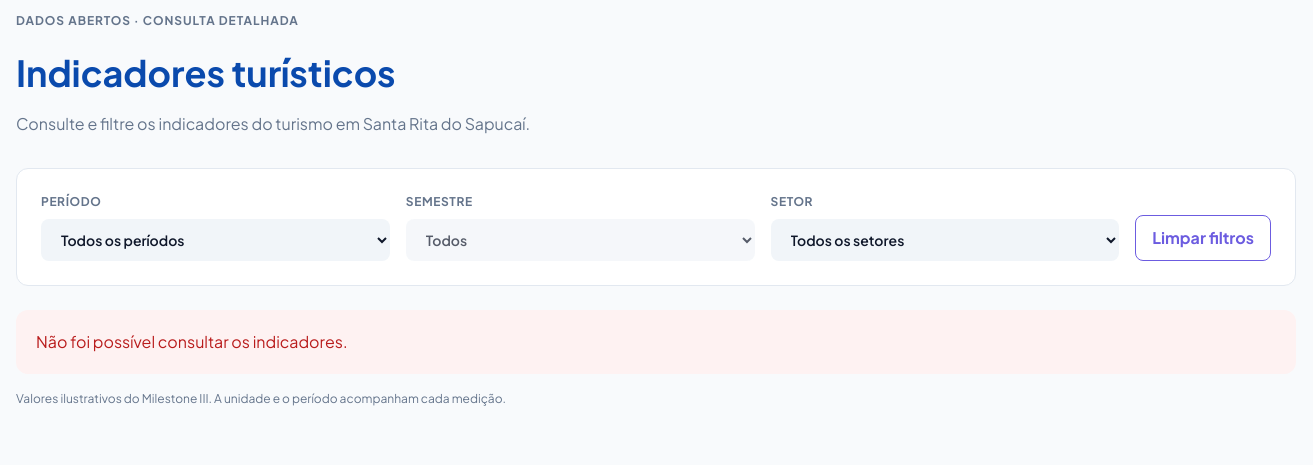
Scenario: consulta de indicadores › permite consultar outro setor depois de uma falha na consulta
Expected: the message reads "Não foi possível consultar os indicadores.", [36, 331, 348, 352]
Step 1. Select "Gastronomia" in the dropdown labelled "Setor" → (945, 240), box [771, 219, 1119, 261]
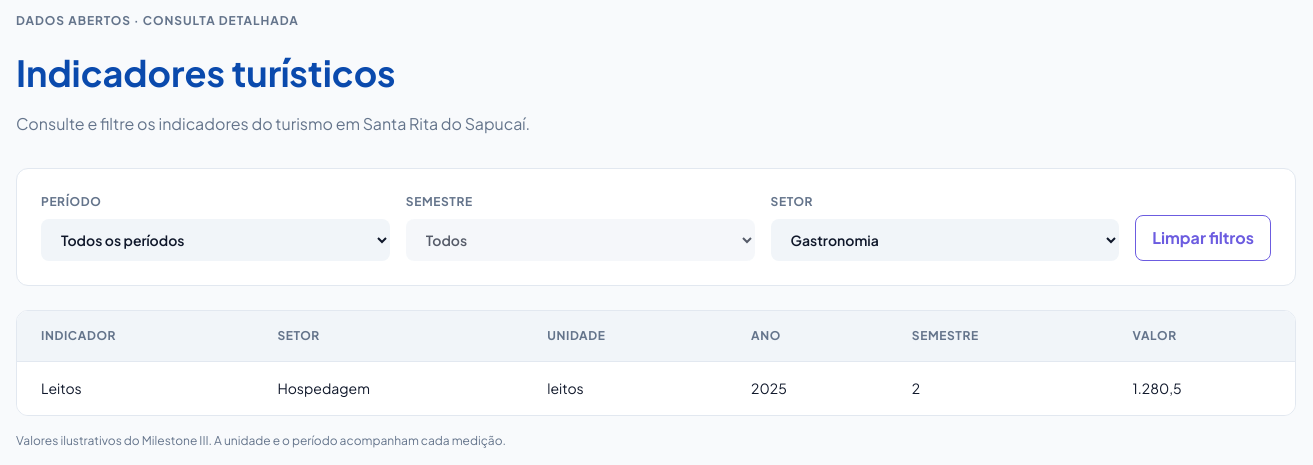
Now the table is shown, box [17, 311, 1295, 415]
Now the message "Não foi possível consultar os indicadores." is gone
